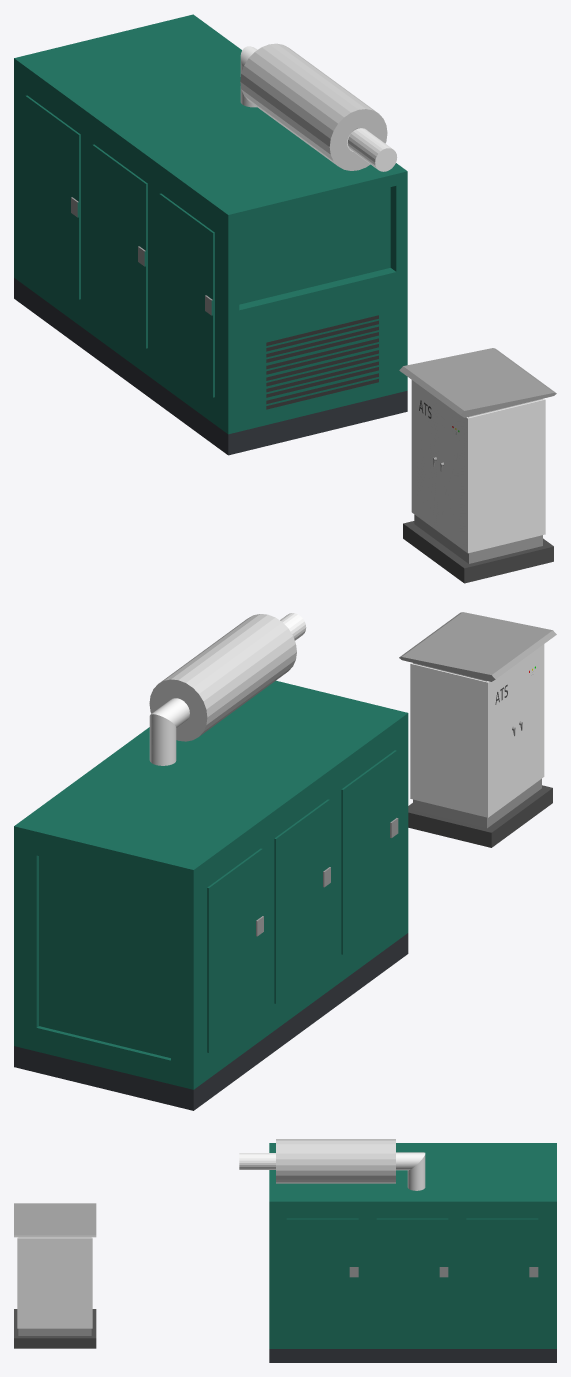
Rendered from tinyM.obj.
3 renders of one model, top to bottom at view 1: azimuth 30°, elevation 25°; view 2: azimuth 150°, elevation 25°; view 3: azimuth 270°, elevation 25°, orthographic. The views are drawn at different scales.
Visible parts, largest first — view 1: Mesh1 Group1 Model, Mesh7 Group2 Model, Mesh2 Group1 Model; view 2: Mesh1 Group1 Model, Mesh7 Group2 Model; view 3: Mesh1 Group1 Model, Mesh7 Group2 Model, Mesh2 Group1 Model.
Boxes of the visible parts, box(x1,y1,x2,y2) form: Mesh1 Group1 Model: box(14, 14, 407, 455); Mesh7 Group2 Model: box(399, 348, 556, 583); Mesh2 Group1 Model: box(347, 128, 397, 171); Mesh1 Group1 Model: box(14, 614, 408, 1110); Mesh7 Group2 Model: box(399, 612, 556, 847); Mesh1 Group1 Model: box(269, 1139, 556, 1362); Mesh7 Group2 Model: box(14, 1203, 96, 1348); Mesh2 Group1 Model: box(239, 1153, 275, 1169).
Size of the model in its own units: 2905 by 4647 by 11024.
